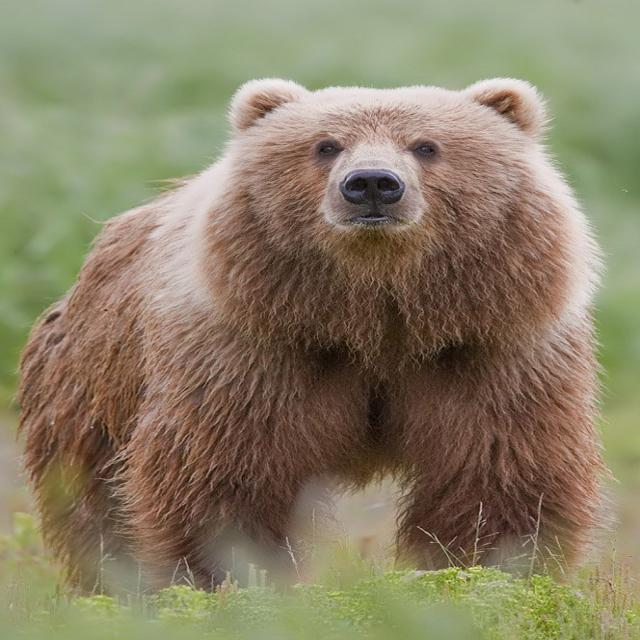bear: (26, 34, 597, 624)
